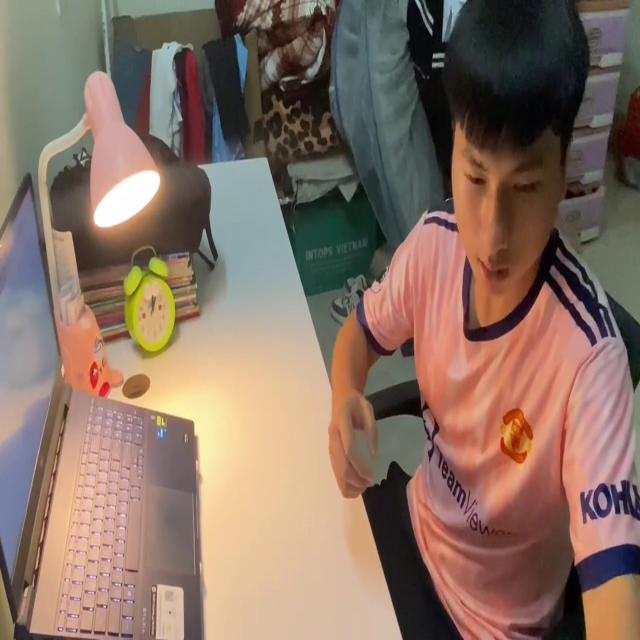laptop: (1, 160, 206, 640)
student: (326, 0, 640, 640)
